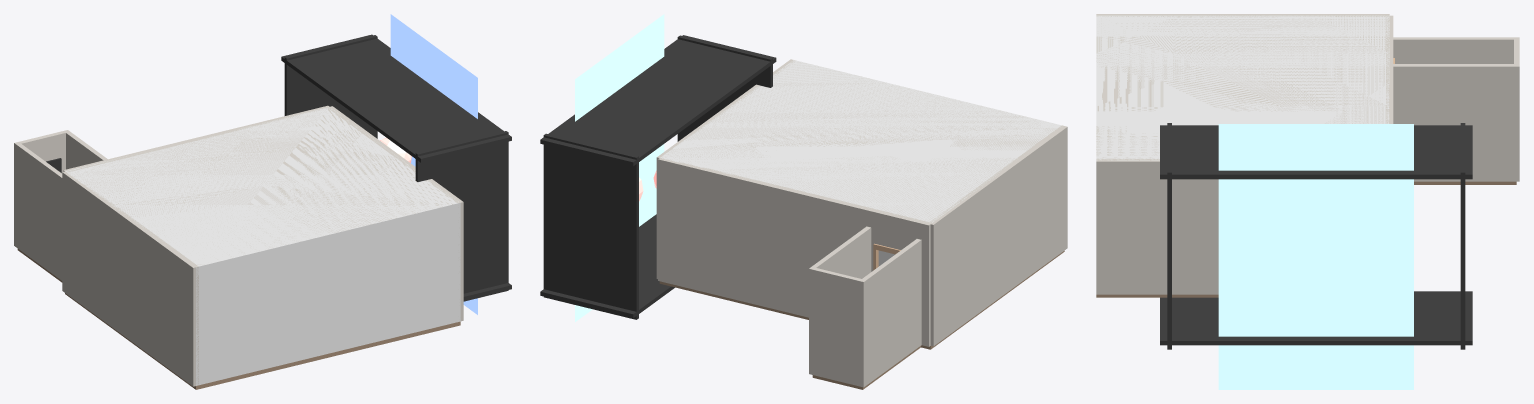
Rendered from living-room.glb.
3 renders of one model, left to right at view 1: azimuth 30°, elevation 25°; view 2: azimuth 150°, elevation 25°; view 3: azimuth 270°, elevation 25°, orthographic. The views are drawn at different scales.
Parts seen in each view (by area): view 1: VolumeBox_Room, WallLeft, Ceiling, ext_baffle_top, ext_baffle_L, hall_wall_L, sky_backdrop, ext_baffle_R, Floor, hall_end, WallRight, WallBack (+1 smaller); view 2: VolumeBox_Room, WallBack, WallLeft, ext_baffle_R, ext_baffle_top, Ceiling, hall_wall_L, hall_end, sky_backdrop, ext_baffle_bot, hall_wall_R, ext_baffle_L (+2 smaller); view 3: sky_backdrop, VolumeBox_Room, WallRight, Ceiling, hall_wall_R, ext_baffle_top, ext_baffle_bot, hall_wall_L, ext_baffle_R, ext_baffle_L, hall_end, WallBack (+3 smaller).
Part boxes in pixels (x1,y1,x2,y2): VolumeBox_Room: (65, 107, 460, 385); WallLeft: (62, 171, 198, 386); Ceiling: (68, 109, 456, 264); ext_baffle_top: (281, 34, 511, 162); ext_baffle_L: (415, 131, 508, 301); hall_wall_L: (15, 144, 62, 280); sky_backdrop: (390, 14, 477, 314); ext_baffle_R: (284, 35, 377, 138); Floor: (65, 293, 460, 389); hall_end: (14, 130, 69, 246); WallRight: (327, 106, 463, 321); WallBack: (63, 105, 329, 172); VolumeBox_Room: (660, 60, 1061, 266); WallBack: (658, 158, 931, 346); WallLeft: (930, 125, 1067, 346); ext_baffle_R: (543, 133, 638, 319); ext_baffle_top: (540, 35, 776, 166); Ceiling: (662, 60, 1056, 221); hall_wall_L: (862, 239, 921, 385); hall_end: (809, 267, 865, 387); sky_backdrop: (575, 14, 664, 321); ext_baffle_bot: (540, 214, 674, 318); hall_wall_R: (811, 226, 871, 278); ext_baffle_L: (677, 35, 772, 141); sky_backdrop: (1218, 124, 1413, 389); VolumeBox_Room: (1096, 15, 1389, 160); WallRight: (1096, 158, 1218, 294); Ceiling: (1096, 15, 1389, 157); hall_wall_R: (1393, 64, 1516, 181); ext_baffle_top: (1160, 125, 1472, 179); ext_baffle_bot: (1160, 291, 1472, 345); hall_wall_L: (1393, 37, 1515, 63); ext_baffle_R: (1460, 123, 1465, 349); ext_baffle_L: (1167, 123, 1171, 349); hall_end: (1514, 37, 1519, 181); WallBack: (1386, 15, 1393, 123).
Bounding box in the file's own units: 9.18 × 6 × 8.66.
